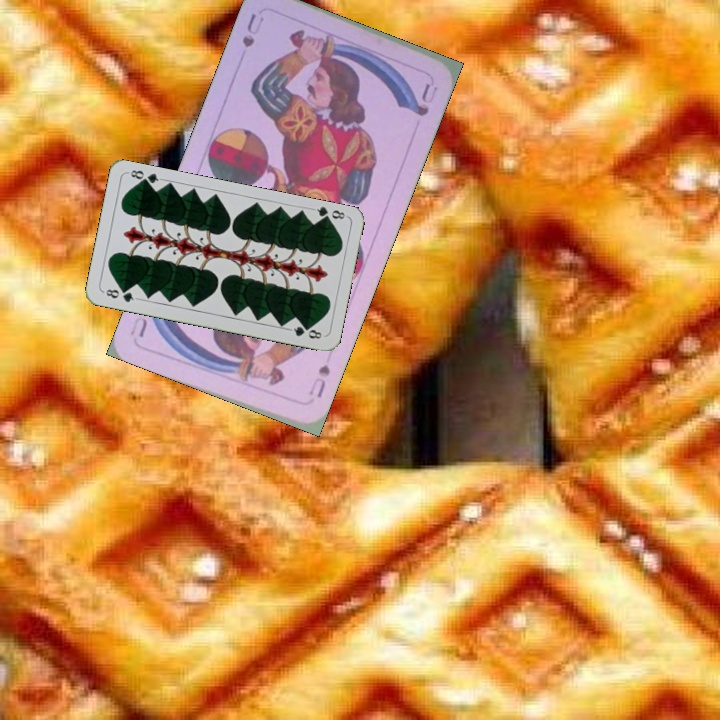G8: (309, 203, 349, 225), (100, 285, 140, 305)
SU: (238, 9, 267, 50), (304, 360, 333, 401)
